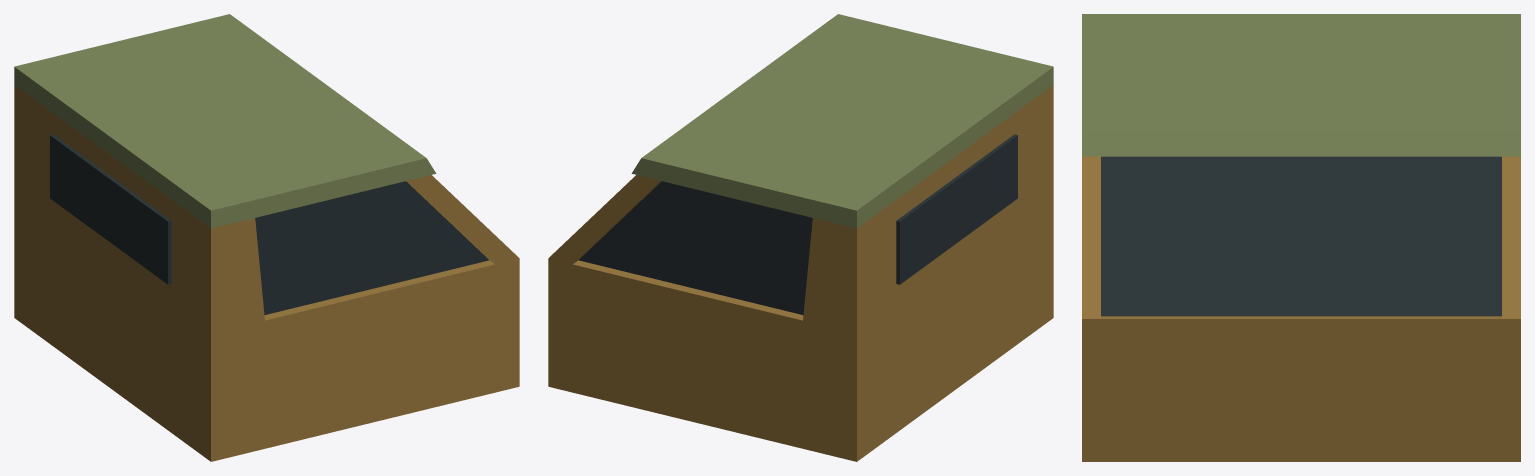
The model's file is cab_hardtop.glb.
3 views of the same model, side by side, from view 1: azimuth 30°, elevation 25°; view 2: azimuth 150°, elevation 25°; view 3: azimuth 270°, elevation 25° (orthographic). The views are drawn at different scales.
Visible parts, largest first — view 1: cab_hardtop; view 2: cab_hardtop; view 3: cab_hardtop.
Part boxes in pixels (<box>): cab_hardtop: <box>14,14,519,461</box>; cab_hardtop: <box>548,14,1053,461</box>; cab_hardtop: <box>1082,14,1520,461</box>.
Size of the model in its own units: 1.27 by 0.98 by 1.39.
